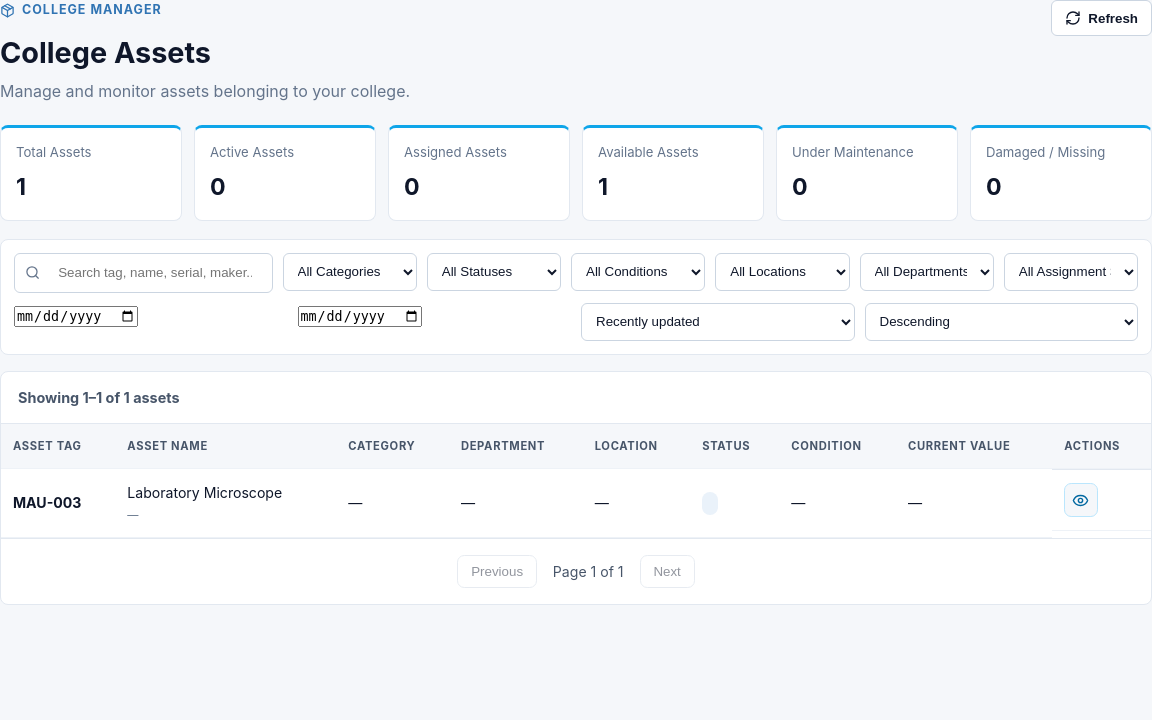
translates asset details and preserves the requested asset id
The width and height of the screenshot is (1152, 720).
Expected: the heading "College Assets" is shown, [0,35,211,70]
Step 1. Click the button named "View details for Laboratory Microscope" → point(1081, 500), box [1064,483,1098,517]
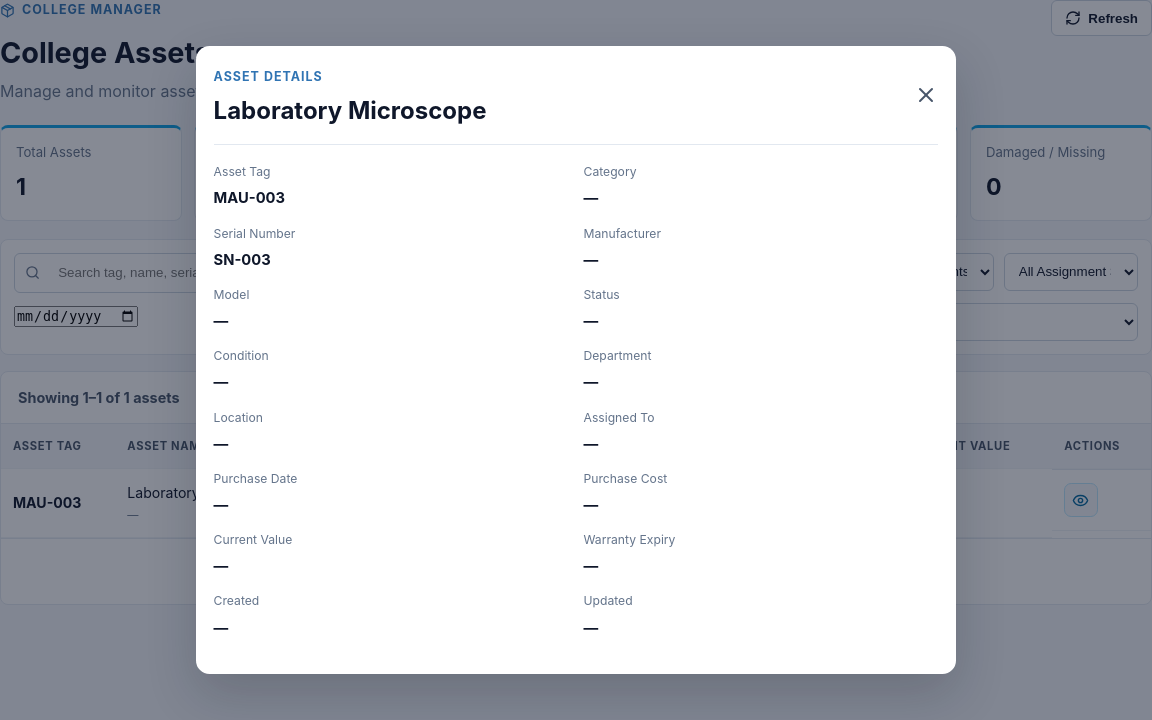
Expected: the dialog shows "Asset details", [214,69,323,84]
Expected: the text "Serial Number" is shown, [214,226,295,241]
